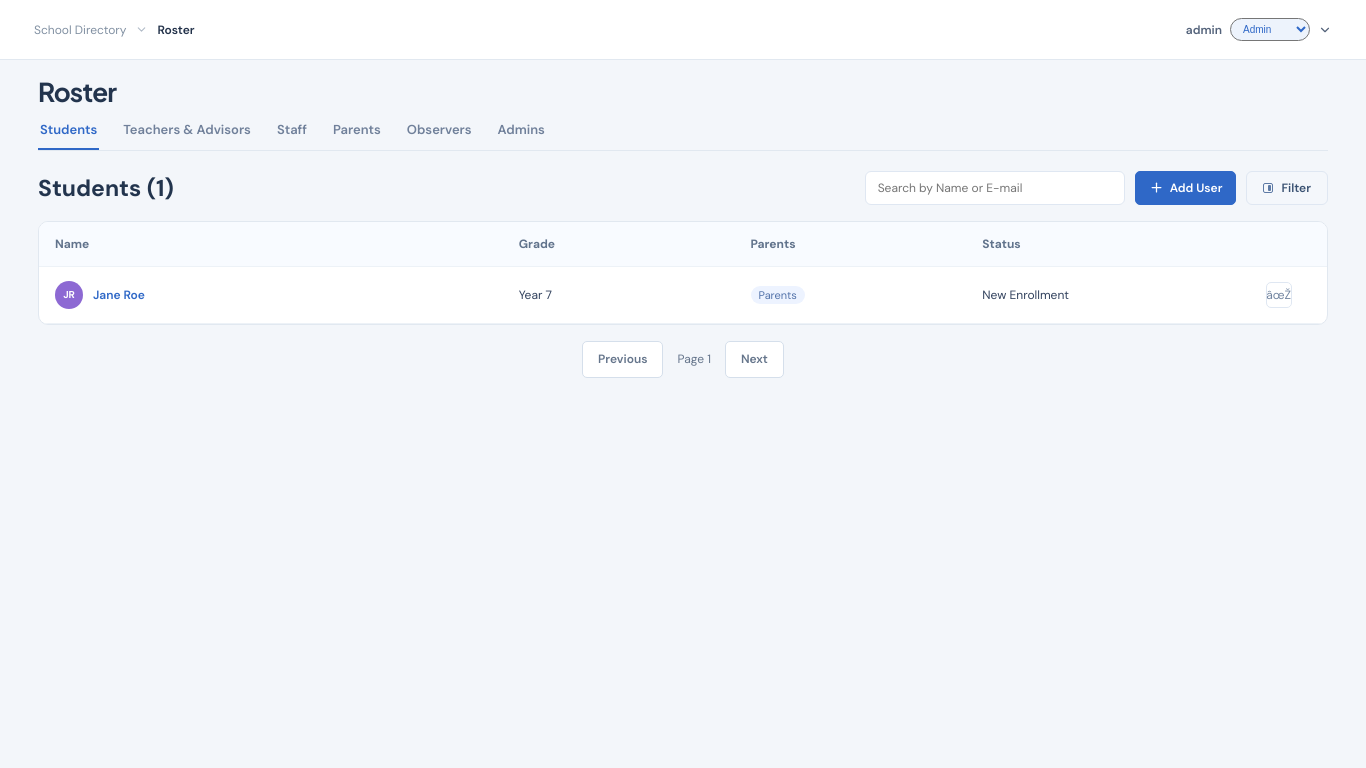
Test: RosterPage › edits a teacher profile by clicking the name on the Teachers tab
Click the button "Teachers & Advisors" at (187, 135), box [121,121,253,150]
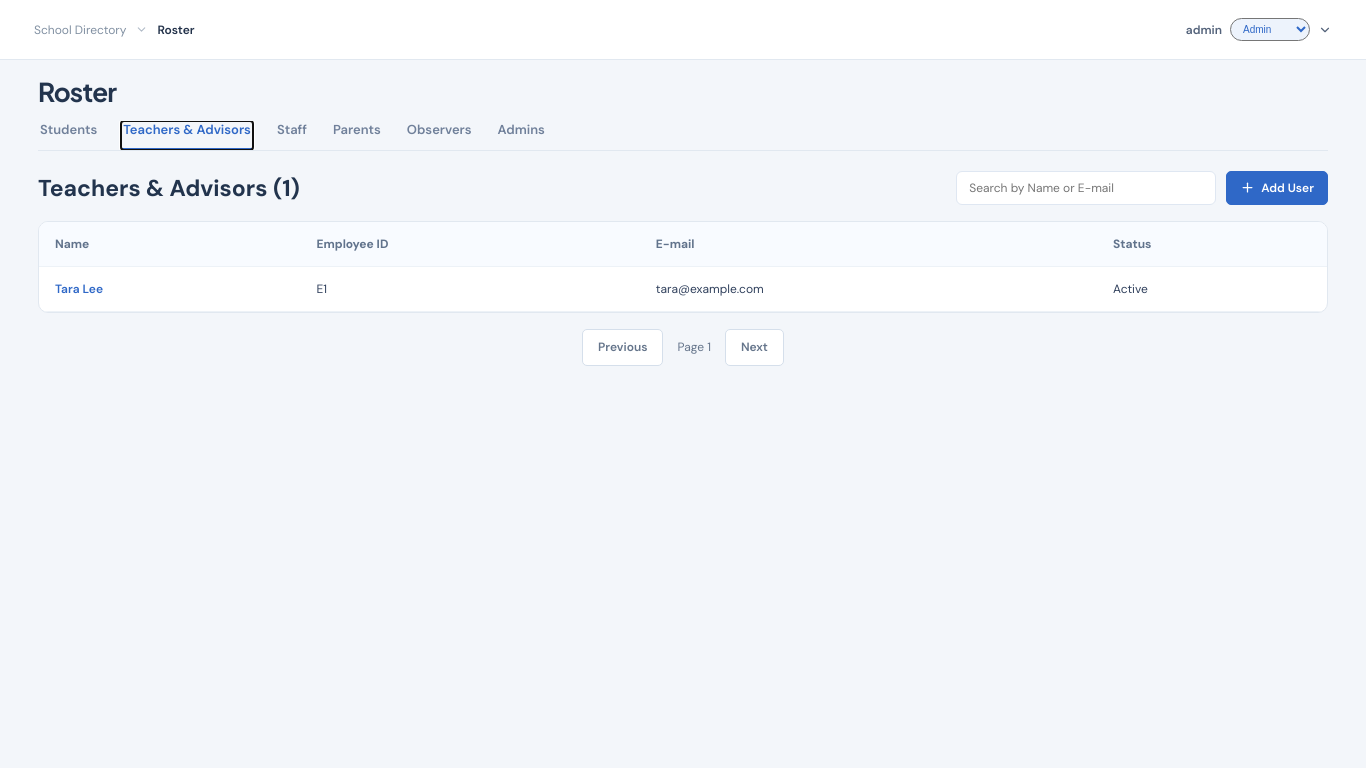
Click the button "Tara Lee" at (79, 289), box [55,281,103,297]
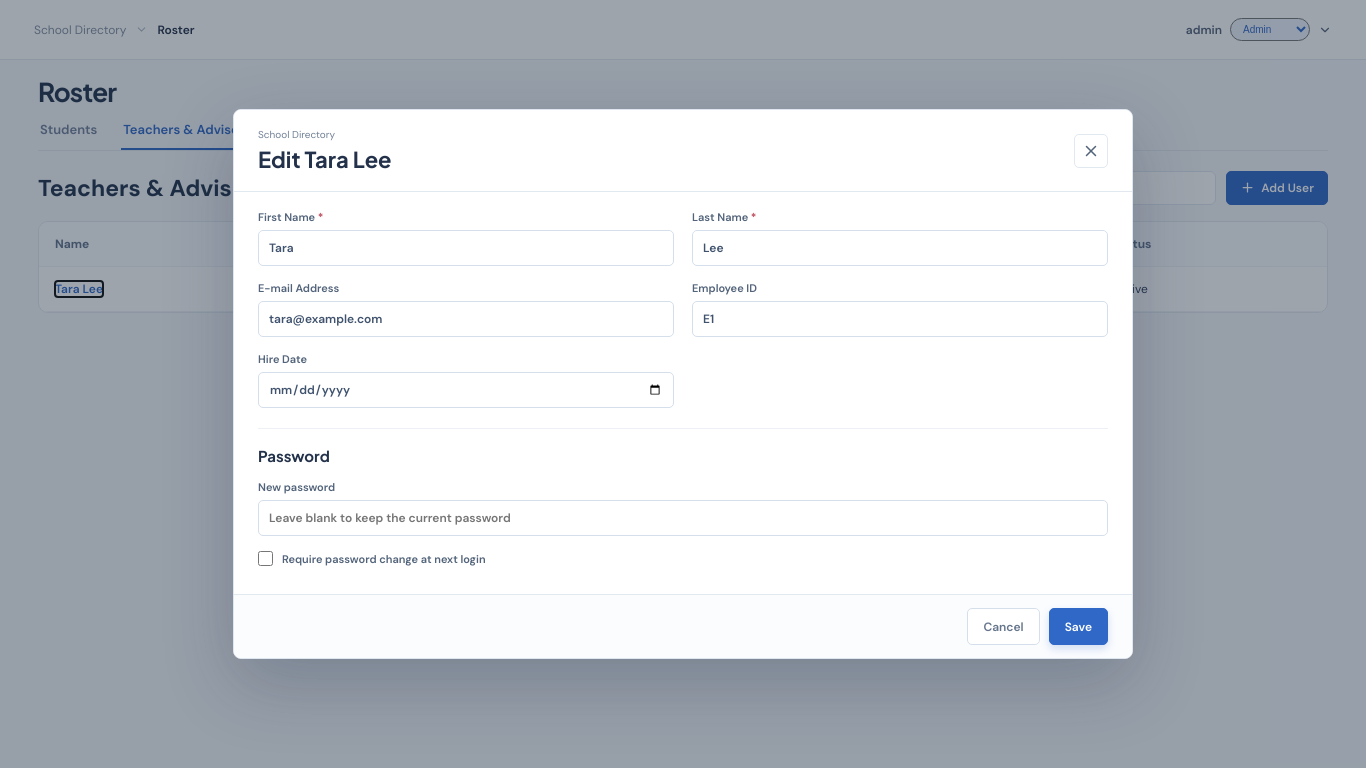
Type "Temporary-Password-789!" into the password field labelled "New password" at (683, 518), box [258,500,1108,536]
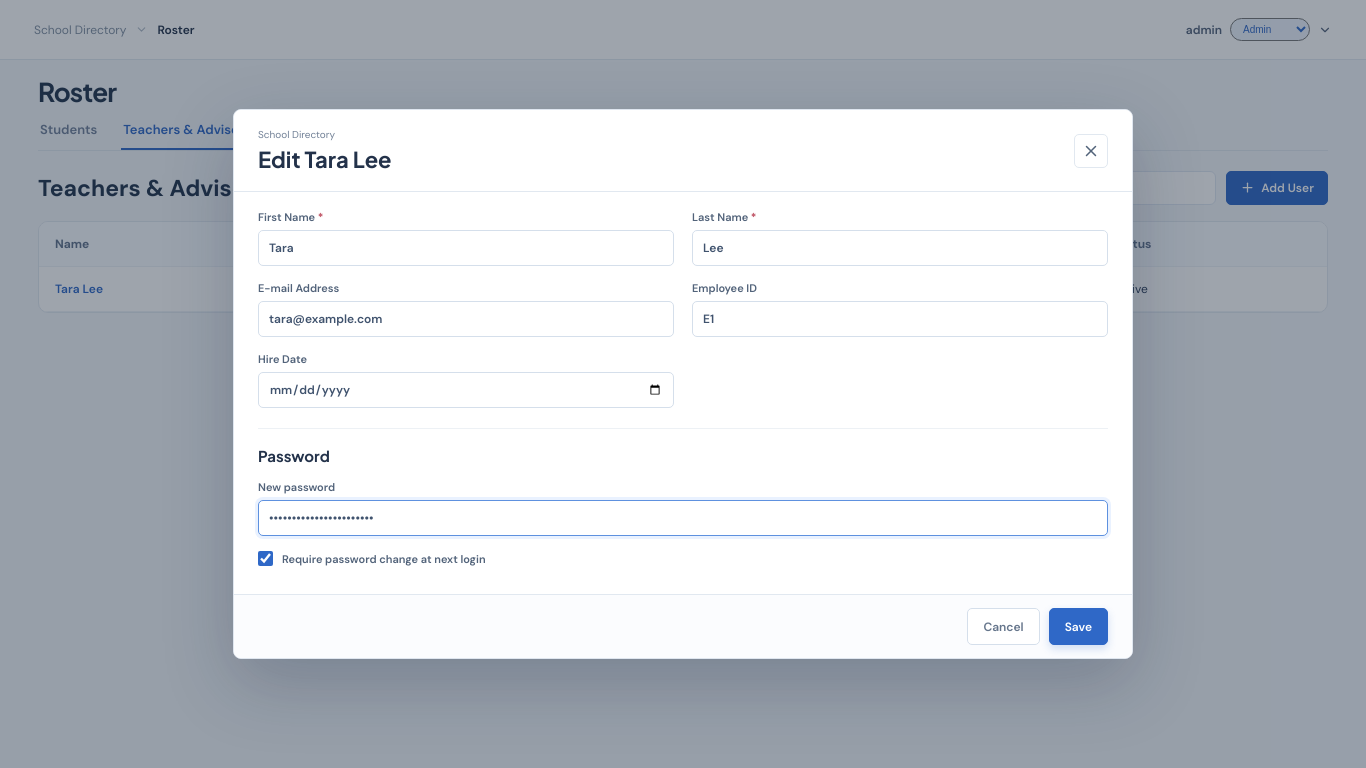
Replace the text in the field labelled "Employee ID" with "E77" at (900, 319), box [692,301,1108,337]
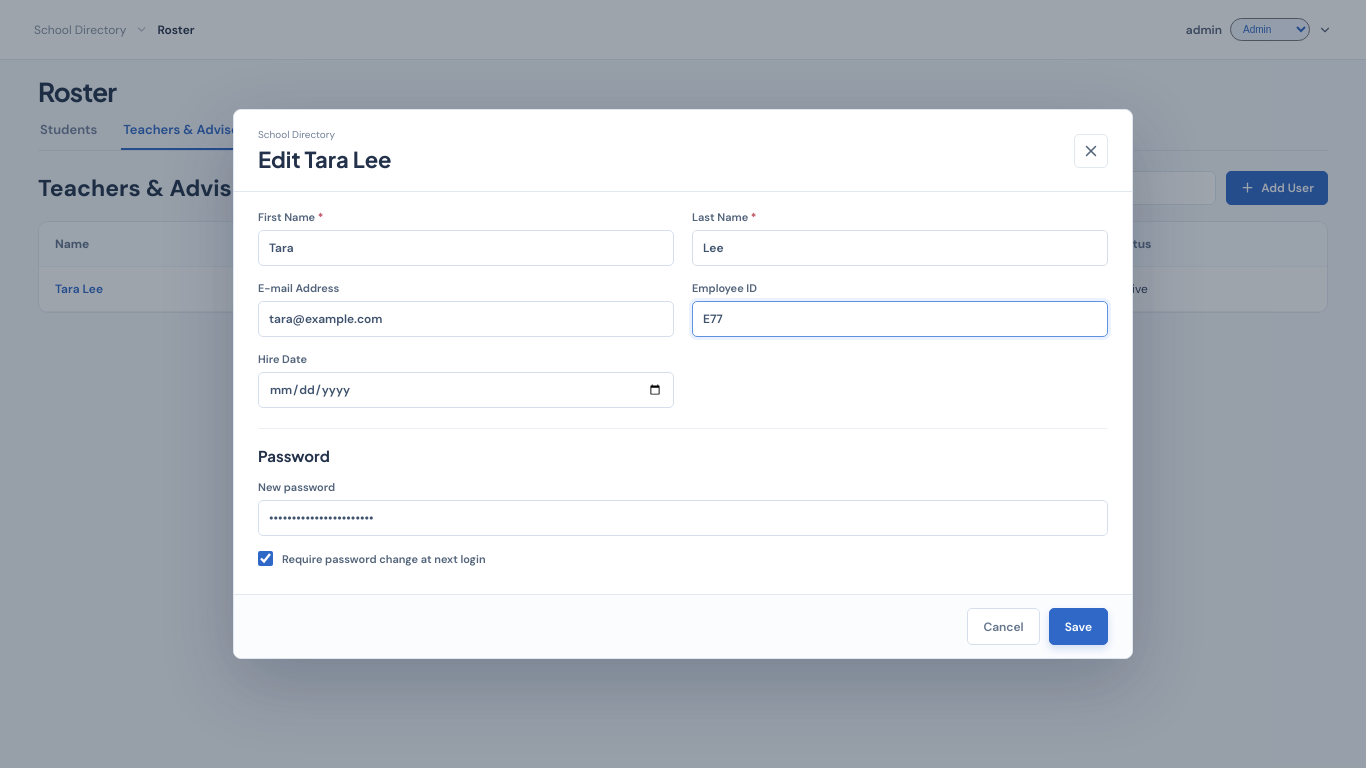
Click the button "Save" at (1078, 626), box [1049,608,1108,645]
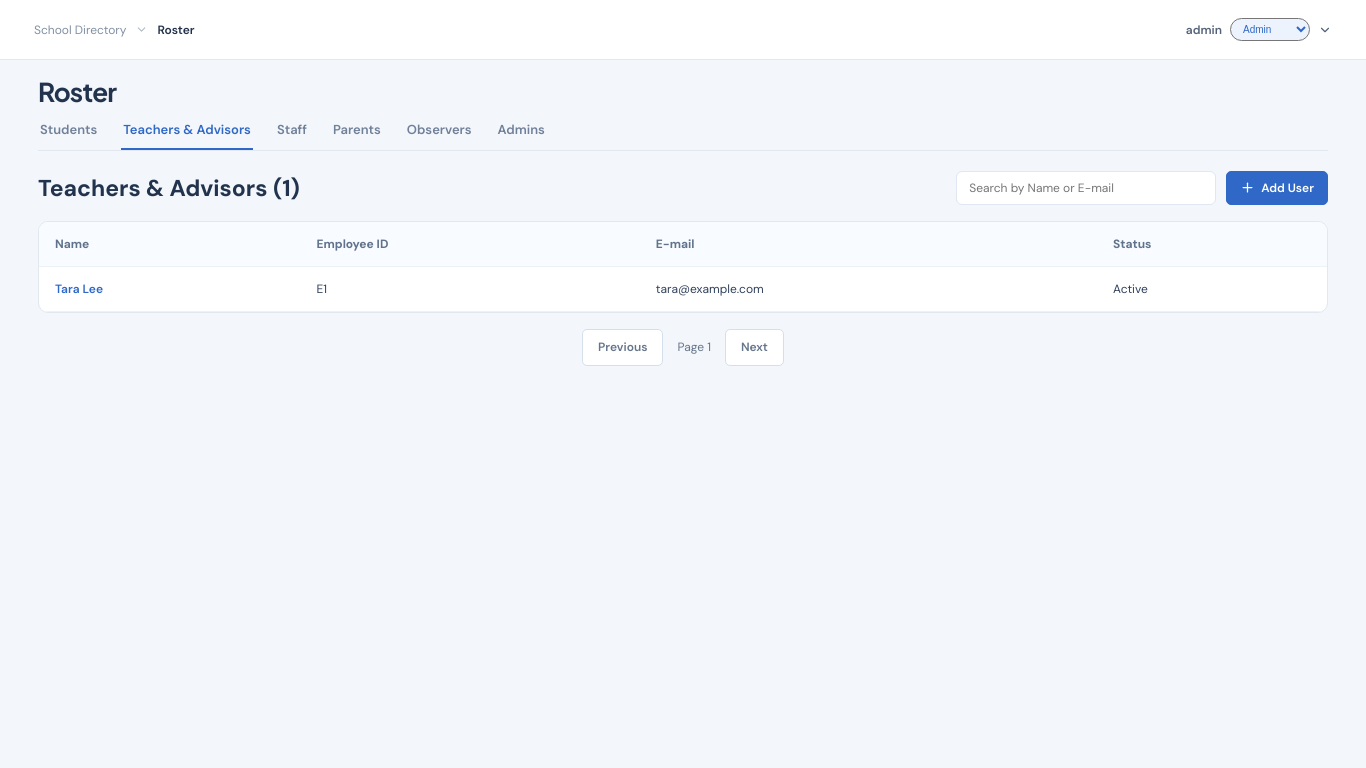
Expected: the dialog is gone
